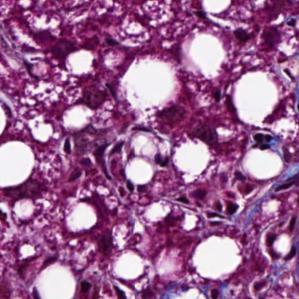inflammation: (170, 183, 243, 223), (259, 220, 299, 270)
